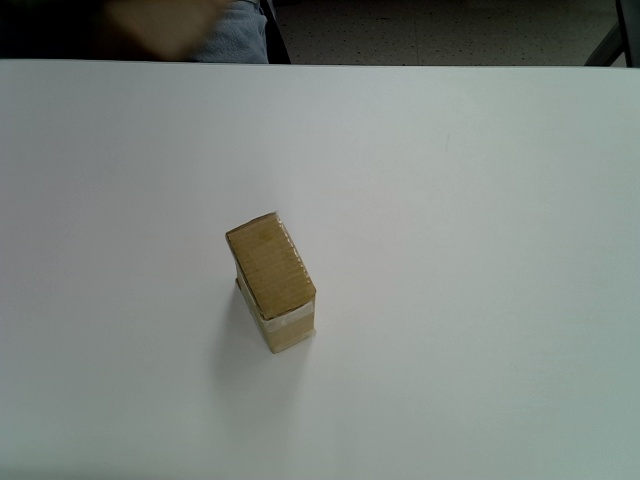normal: (224, 211, 316, 354)
